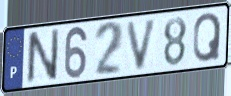2: (93, 20, 125, 79)
6: (63, 24, 89, 81)
8: (161, 14, 188, 69)
N: (25, 26, 61, 87)
Q: (192, 11, 223, 65)
V: (125, 16, 160, 73)
